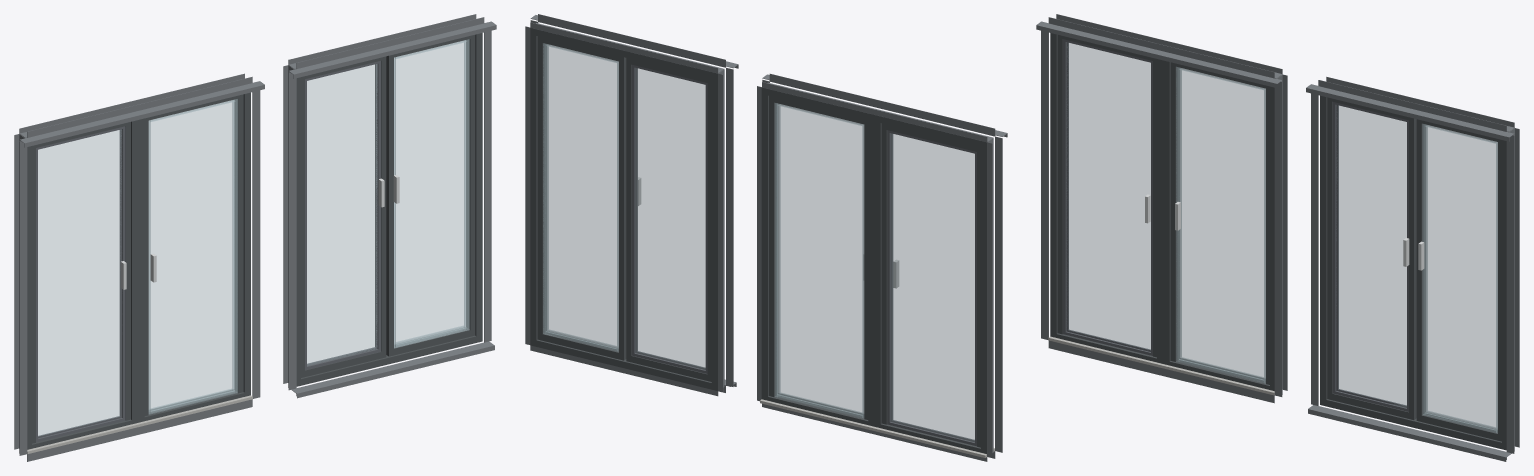
Rendered from Abertura_B3_lado_B_puerta_y_ventana_al_piso_3.77m.dae.
3 views of the same model, side by side, from view 1: azimuth 30°, elevation 25°; view 2: azimuth 150°, elevation 25°; view 3: azimuth 330°, elevation 25° (orthographic).
Parts seen in each view (by area): view 1: Vidrio (×2), Perfil aluminio (×2), Contramarco (×2), Junquillo (×2), Umbral hormigon; view 2: Vidrio (×2), Perfil aluminio (×2), Contramarco (×2), Junquillo (×2), Umbral hormigon; view 3: Vidrio (×2), Perfil aluminio (×2), Contramarco (×2), Junquillo (×2), Umbral hormigon.
Part boxes in pixels (x1,y1,x2,y2): Vidrio (×2): (38,39,469,436); Perfil aluminio (×2): (27,33,482,449); Contramarco (×2): (14,14,496,461); Junquillo (×2): (36,61,380,442); Umbral hormigon: (27,395,252,454); Vidrio (×2): (543,43,974,441); Perfil aluminio (×2): (530,28,987,456); Contramarco (×2): (525,14,1007,461); Junquillo (×2): (632,65,976,446); Umbral hormigon: (760,399,994,457); Vidrio (×2): (1067,43,1497,433); Perfil aluminio (×2): (1050,33,1506,450); Contramarco (×2): (1036,14,1519,461); Junquillo (×2): (1063,39,1408,411); Umbral hormigon: (1048,336,1274,395).
Size of the model in its own units: 3.77 by 0.215 by 2.54.
